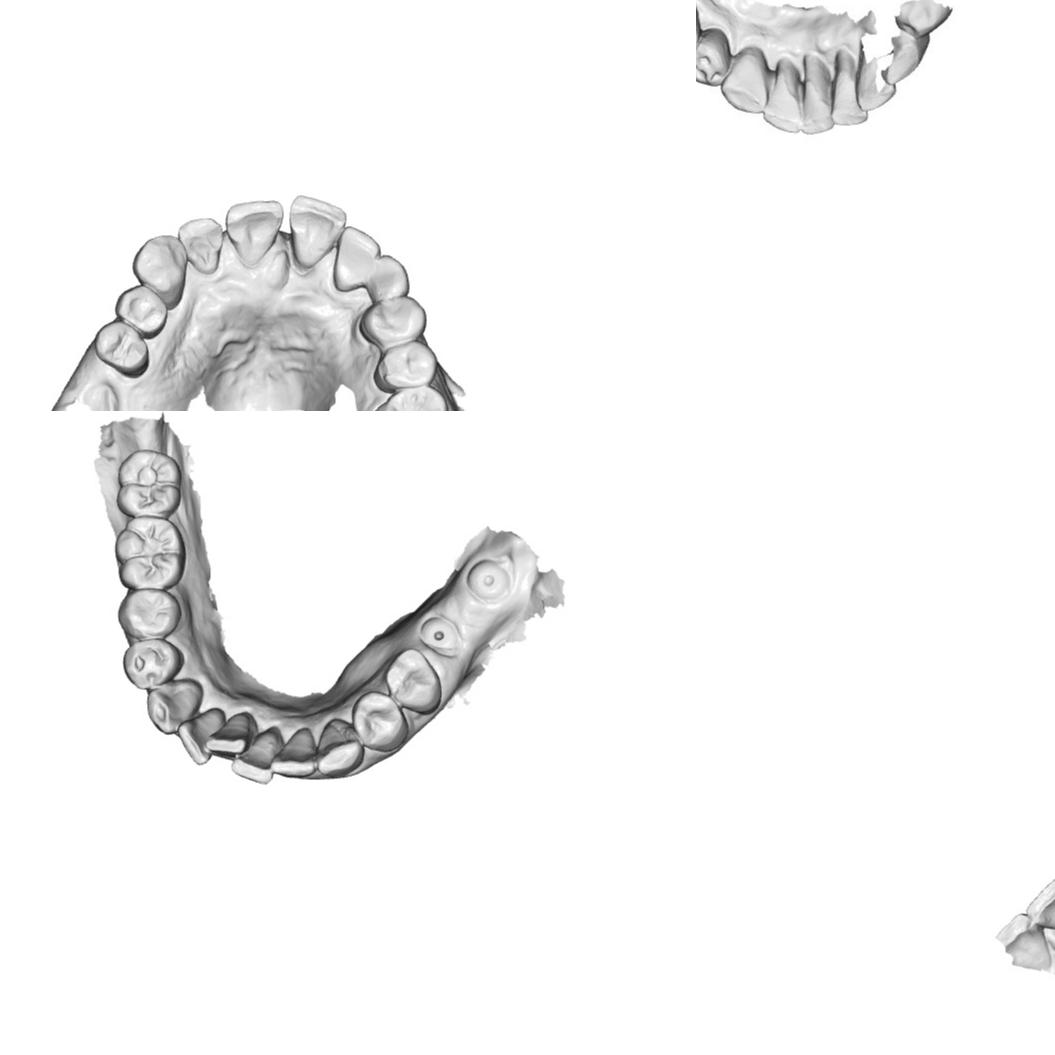canine: (131, 234, 190, 302), (145, 677, 205, 734), (315, 718, 365, 778), (722, 48, 767, 114), (364, 254, 410, 300)
implant: (462, 558, 512, 603), (418, 613, 462, 653)
incisor: (285, 192, 347, 270), (224, 198, 284, 266), (332, 226, 381, 292), (799, 55, 836, 134), (176, 707, 226, 765), (176, 216, 225, 275), (766, 61, 806, 128), (268, 726, 318, 778), (231, 731, 277, 785), (831, 58, 867, 122), (205, 711, 253, 756), (1027, 873, 1055, 936)
molar: (113, 515, 186, 592), (115, 447, 182, 519), (368, 385, 449, 411)
premolar: (350, 689, 411, 754), (384, 649, 444, 713), (358, 294, 428, 347), (371, 340, 438, 394), (94, 319, 150, 380), (120, 638, 184, 691), (117, 588, 182, 639), (112, 283, 168, 340), (696, 28, 732, 86)
